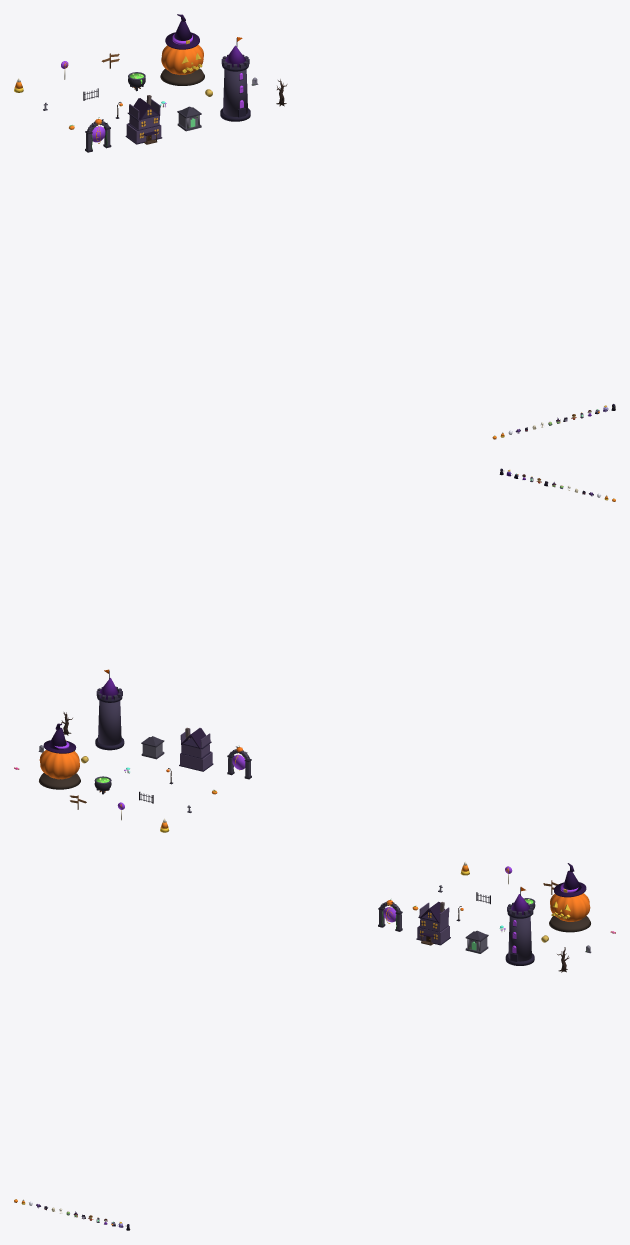
The model's file is SAG_Halloween.fbx.
The picture shows the model from 3 angles, top to bottom: view 1: azimuth 30°, elevation 25°; view 2: azimuth 150°, elevation 25°; view 3: azimuth 330°, elevation 25°; orthographic projection. The views are drawn at different scales.
Visible parts, largest first — view 1: P_CastleTower__Stone, P_GreatPumpkin__Pumpkin, P_HauntedHouse__Wall, P_GreatPumpkin__Hat; view 2: P_CastleTower__Stone, P_GreatPumpkin__Pumpkin, P_HauntedHouse__Wall; view 3: P_CastleTower__Stone, P_GreatPumpkin__Pumpkin, P_HauntedHouse__Wall, P_GreatPumpkin__Hat.
Boxes of the visible parts, x1,y1,x2,y2 form: P_CastleTower__Stone: (221,54,249,116); P_GreatPumpkin__Pumpkin: (161,45,203,74); P_HauntedHouse__Wall: (126,99,161,143); P_GreatPumpkin__Hat: (165,14,199,49); P_CastleTower__Stone: (96,686,122,745); P_GreatPumpkin__Pumpkin: (39,750,79,779); P_HauntedHouse__Wall: (180,729,212,770); P_CastleTower__Stone: (507,902,533,961); P_GreatPumpkin__Pumpkin: (550,893,590,921); P_HauntedHouse__Wall: (417,902,449,944); P_GreatPumpkin__Hat: (554,863,586,897).
Size of the model in its own units: 113 by 42.85 by 472.
